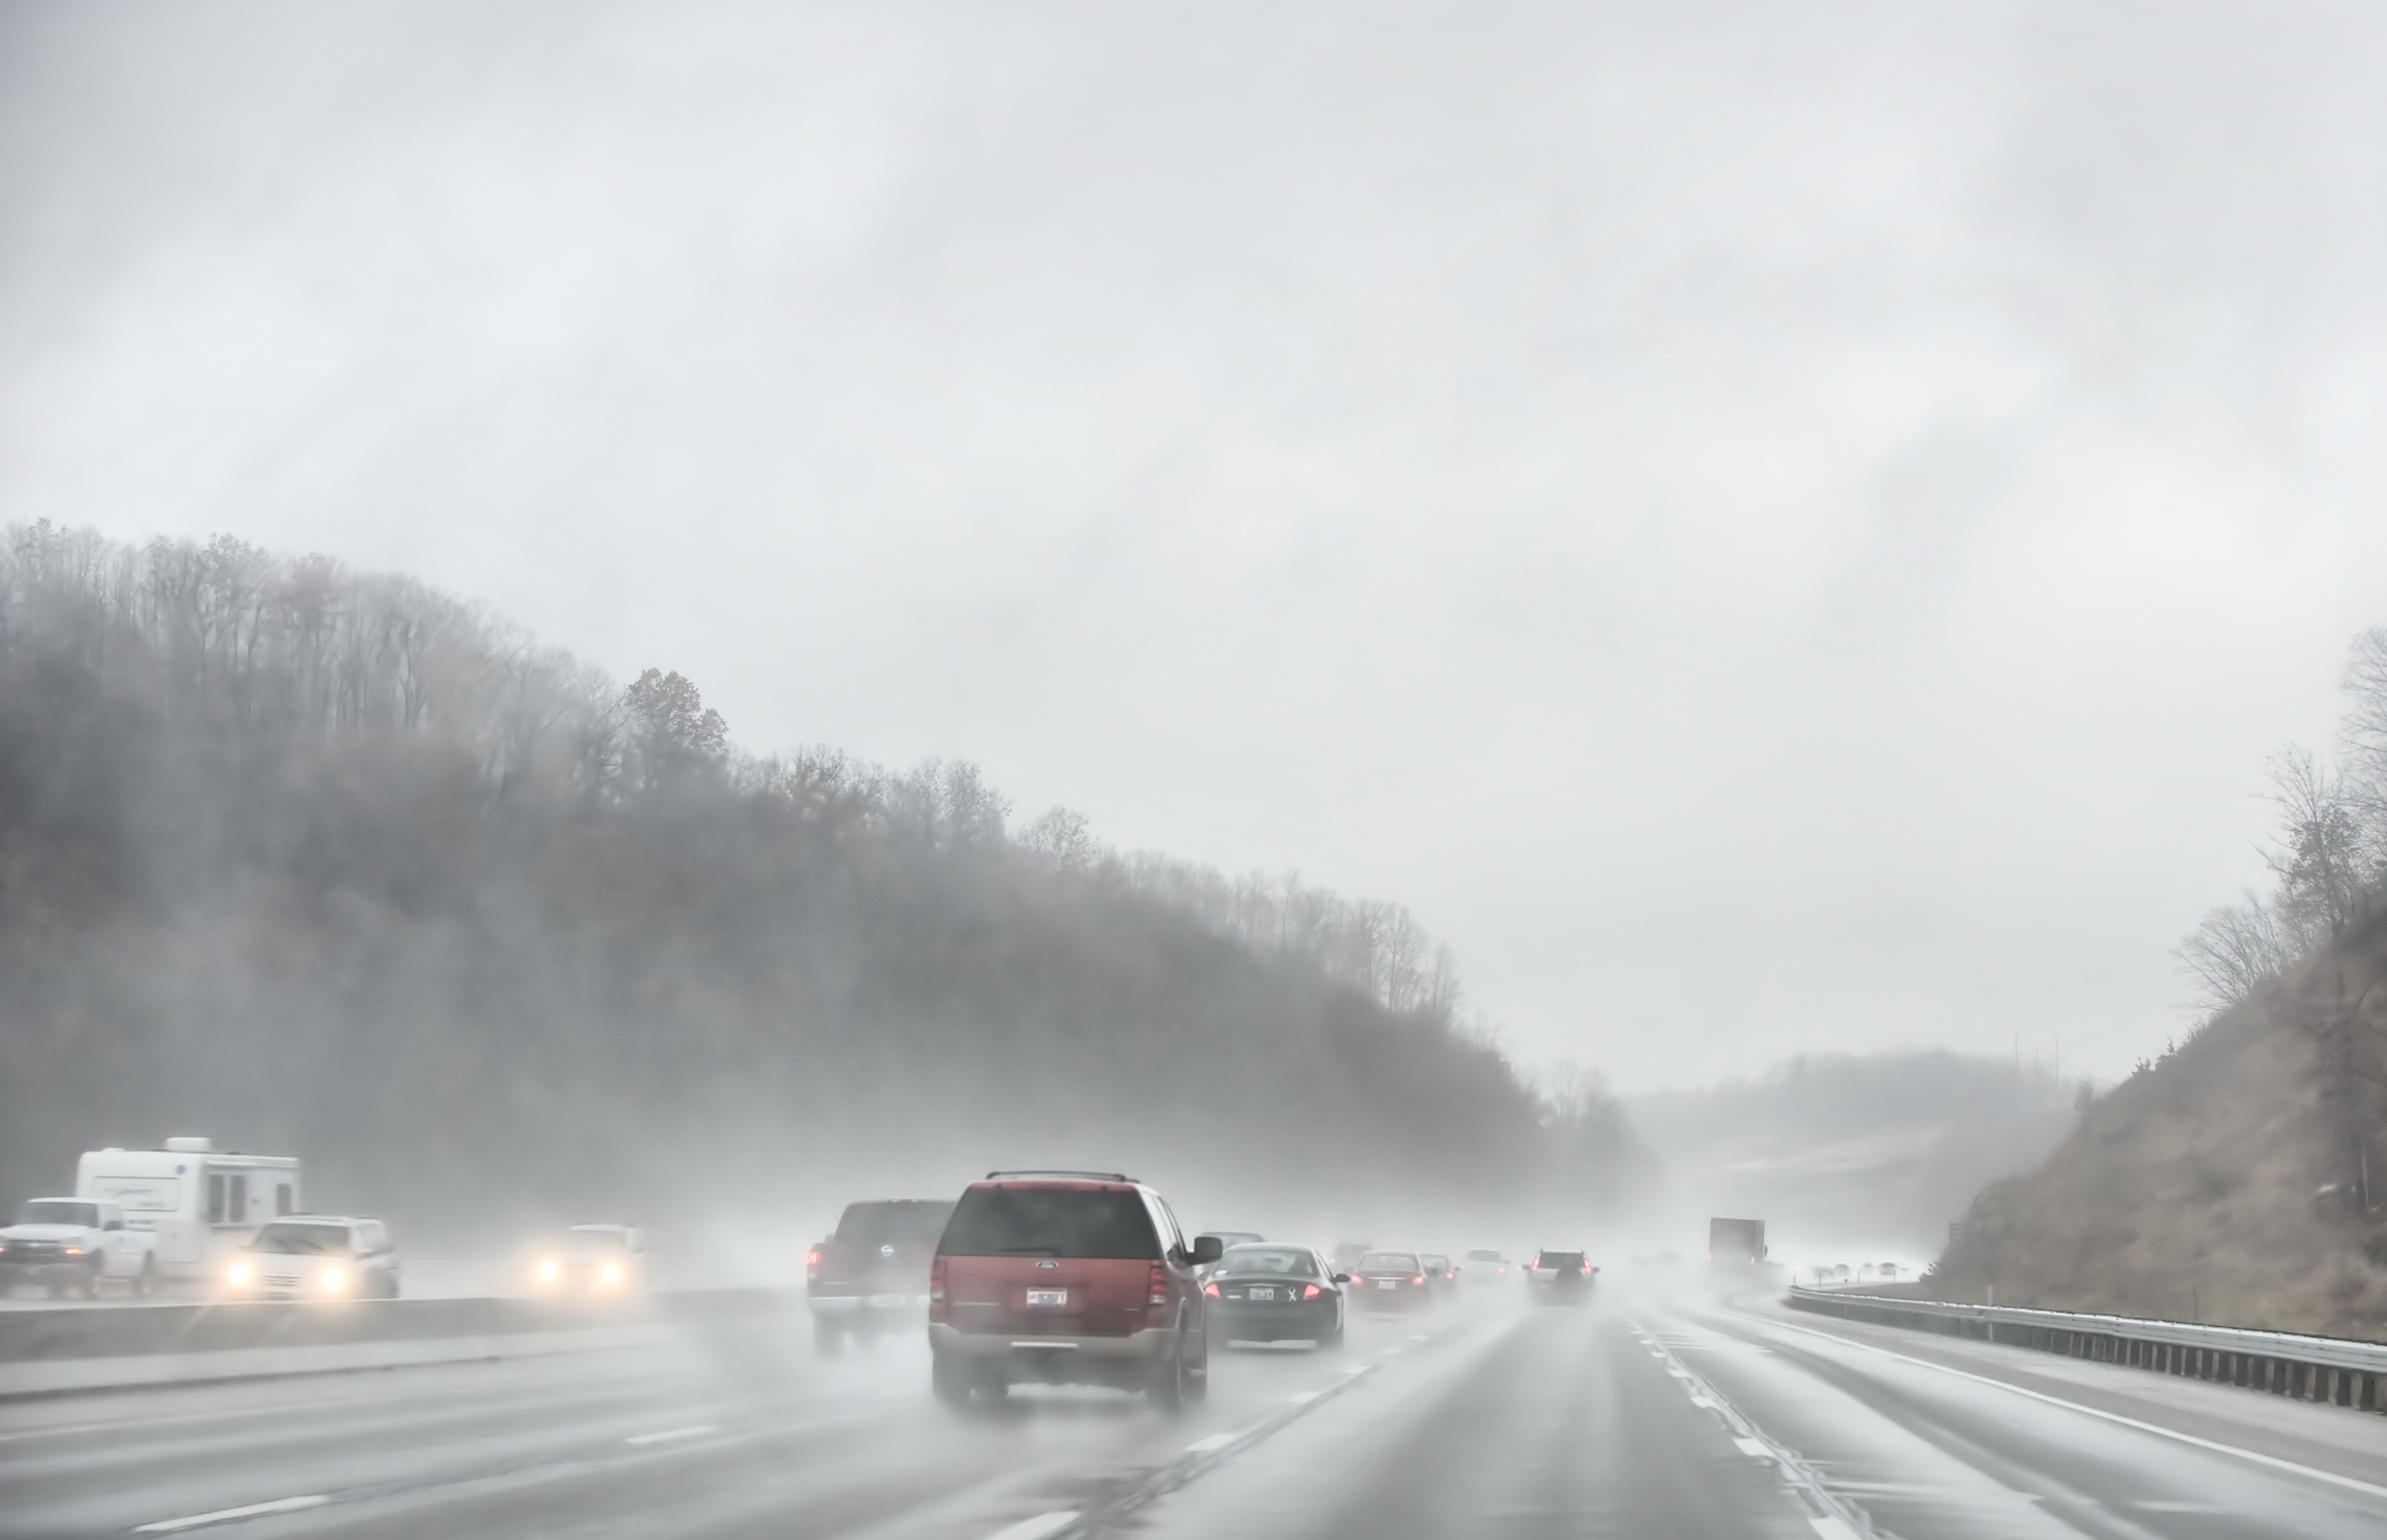car: (920, 1171, 1216, 1416), (800, 1201, 955, 1340), (200, 1215, 405, 1303), (2, 1190, 153, 1298), (1202, 1244, 1345, 1352), (525, 1220, 652, 1309), (1521, 1248, 1599, 1312), (1340, 1248, 1435, 1300), (1456, 1246, 1515, 1293), (1418, 1251, 1463, 1305)
truck: (1707, 1215, 1769, 1284)
